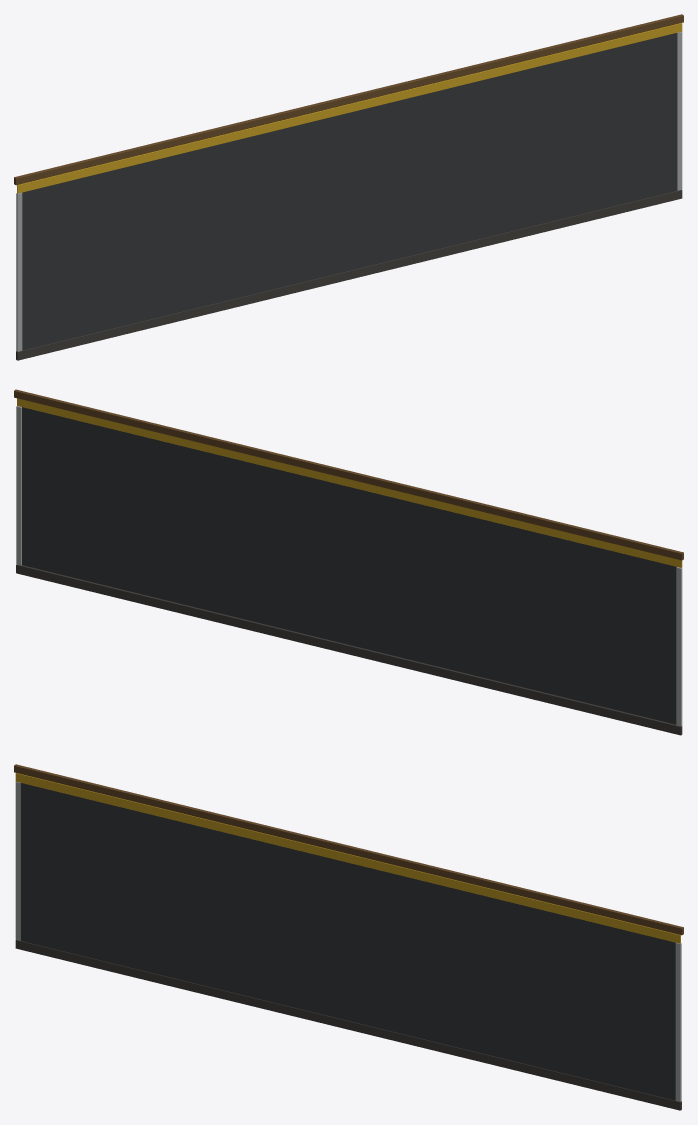
File: prop_of_box_bank_w780.glb
3 views of the same model, one above another, from view 1: azimuth 30°, elevation 25°; view 2: azimuth 150°, elevation 25°; view 3: azimuth 330°, elevation 25° (orthographic).
Visible parts, largest first — view 1: Bank; view 2: Bank; view 3: Bank.
Part boxes in pixels (x1,y1,x2,y2): Bank: (14, 14, 683, 360); Bank: (14, 389, 683, 735); Bank: (14, 764, 683, 1110).
Size of the model in its own units: 7.96 by 2.08 by 0.039.
